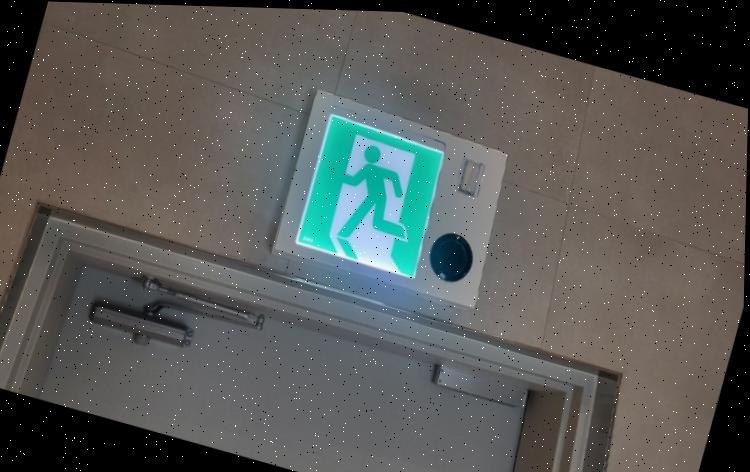emergency_exit: (269, 88, 508, 311), (293, 112, 447, 280)
